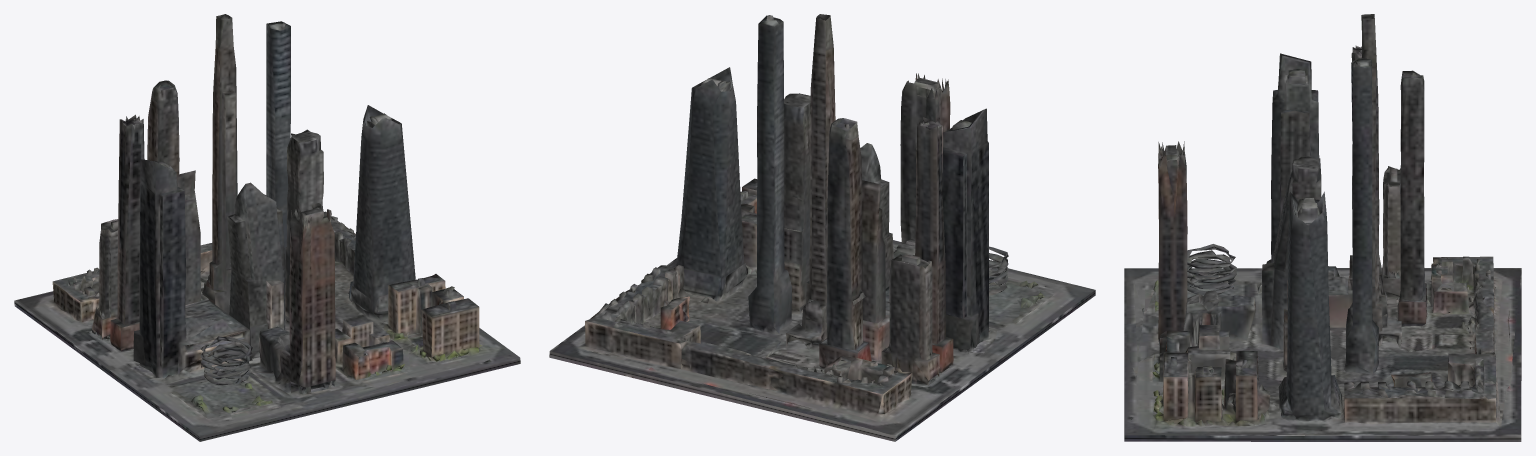
Rendered from ny_hudson_yards_bronze_xfar.glb.
The picture shows the model from 3 angles, left to right: view 1: azimuth 30°, elevation 25°; view 2: azimuth 150°, elevation 25°; view 3: azimuth 270°, elevation 25°; orthographic projection. The views are drawn at different scales.
Visible parts, largest first — view 1: ny_hudson_yards_bronze; view 2: ny_hudson_yards_bronze; view 3: ny_hudson_yards_bronze.
Boxes of the visible parts, left/top/right/bottom form: ny_hudson_yards_bronze: left=14, top=14, right=520, bottom=441; ny_hudson_yards_bronze: left=549, top=14, right=1095, bottom=441; ny_hudson_yards_bronze: left=1124, top=14, right=1521, bottom=441.
Bounding box in the file's own units: 1.9 × 1.74 × 1.9.
1 material, 1 textured.
